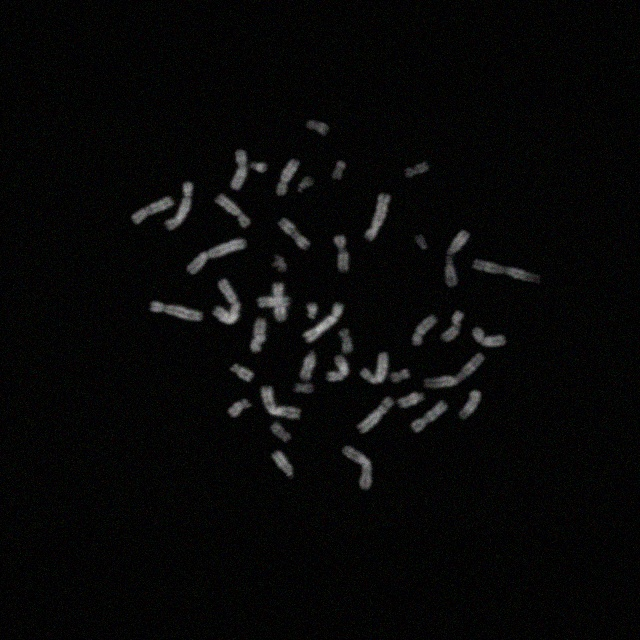chromosome: (188, 238, 248, 274), (473, 258, 541, 288), (424, 354, 484, 388), (302, 302, 343, 343), (356, 396, 394, 434), (261, 385, 301, 419), (445, 230, 469, 286), (165, 182, 192, 230), (343, 445, 372, 489), (364, 194, 390, 242), (215, 194, 251, 228), (213, 279, 240, 323), (132, 198, 174, 225), (412, 400, 446, 432), (151, 300, 203, 320), (278, 218, 310, 250), (276, 158, 300, 196), (360, 352, 388, 384), (228, 150, 248, 190), (412, 316, 436, 346), (442, 310, 462, 342), (460, 392, 482, 421), (472, 328, 504, 347), (327, 355, 349, 381), (272, 282, 286, 322), (272, 452, 294, 476), (334, 235, 348, 271), (299, 352, 315, 381), (270, 422, 292, 442), (228, 398, 250, 418), (230, 364, 254, 382), (257, 296, 289, 308), (399, 392, 425, 406), (406, 162, 428, 178), (339, 329, 353, 353), (308, 120, 328, 136), (254, 318, 266, 342), (298, 176, 314, 194), (392, 369, 411, 383), (332, 162, 346, 180), (272, 257, 288, 271), (294, 384, 314, 394), (415, 234, 427, 250), (250, 162, 266, 174), (307, 302, 317, 320), (250, 339, 262, 353)
